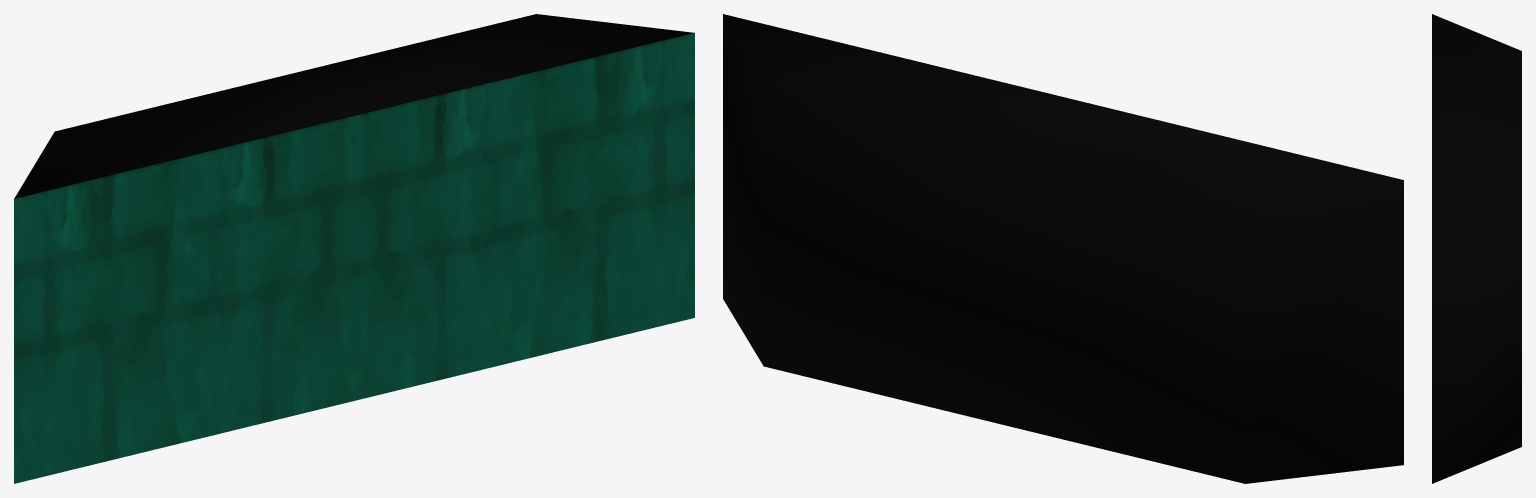
Rendered from Frogames_DP_wall_2.FBX.
3 views of the same model, side by side, from view 1: azimuth 30°, elevation 25°; view 2: azimuth 150°, elevation 25°; view 3: azimuth 270°, elevation 25° (orthographic). The views are drawn at different scales.
Visible parts, largest first — view 1: wall_2; view 2: wall_2; view 3: wall_2.
Boxes of the visible parts, <box> form: wall_2: <box>14,14,694,483</box>; wall_2: <box>723,14,1403,483</box>; wall_2: <box>1432,14,1521,483</box>.
Bounding box in the file's own units: 20 × 3 × 8.
